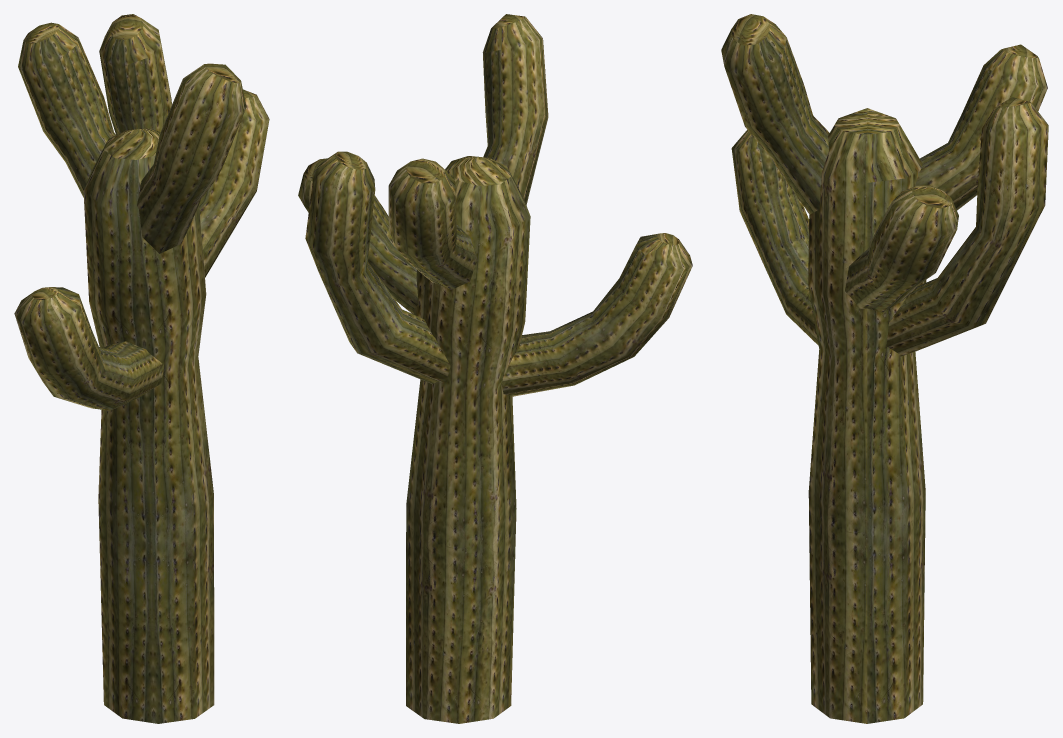
The model's file is Cactus01.FBX.
The picture shows the model from 3 angles, left to right: view 1: azimuth 30°, elevation 25°; view 2: azimuth 150°, elevation 25°; view 3: azimuth 270°, elevation 25°; orthographic projection. The views are drawn at different scales.
Parts seen in each view (by area): view 1: Cactus01; view 2: Cactus01; view 3: Cactus01.
Part boxes in pixels (x1,y1,x2,y2): Cactus01: (14,14,269,723); Cactus01: (298,14,692,723); Cactus01: (721,14,1048,723).
Bounding box in the file's own units: 61.98 × 123 × 53.58.
